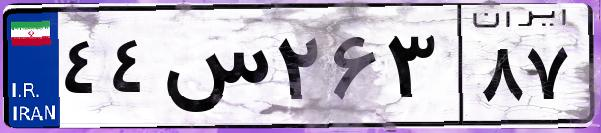2: (270, 28, 330, 110)
3: (385, 28, 445, 110)
4: (57, 26, 110, 100), (110, 28, 158, 98)
6: (330, 28, 385, 110)
7: (525, 38, 570, 115)
8: (475, 38, 525, 113)
س: (158, 20, 270, 120)
